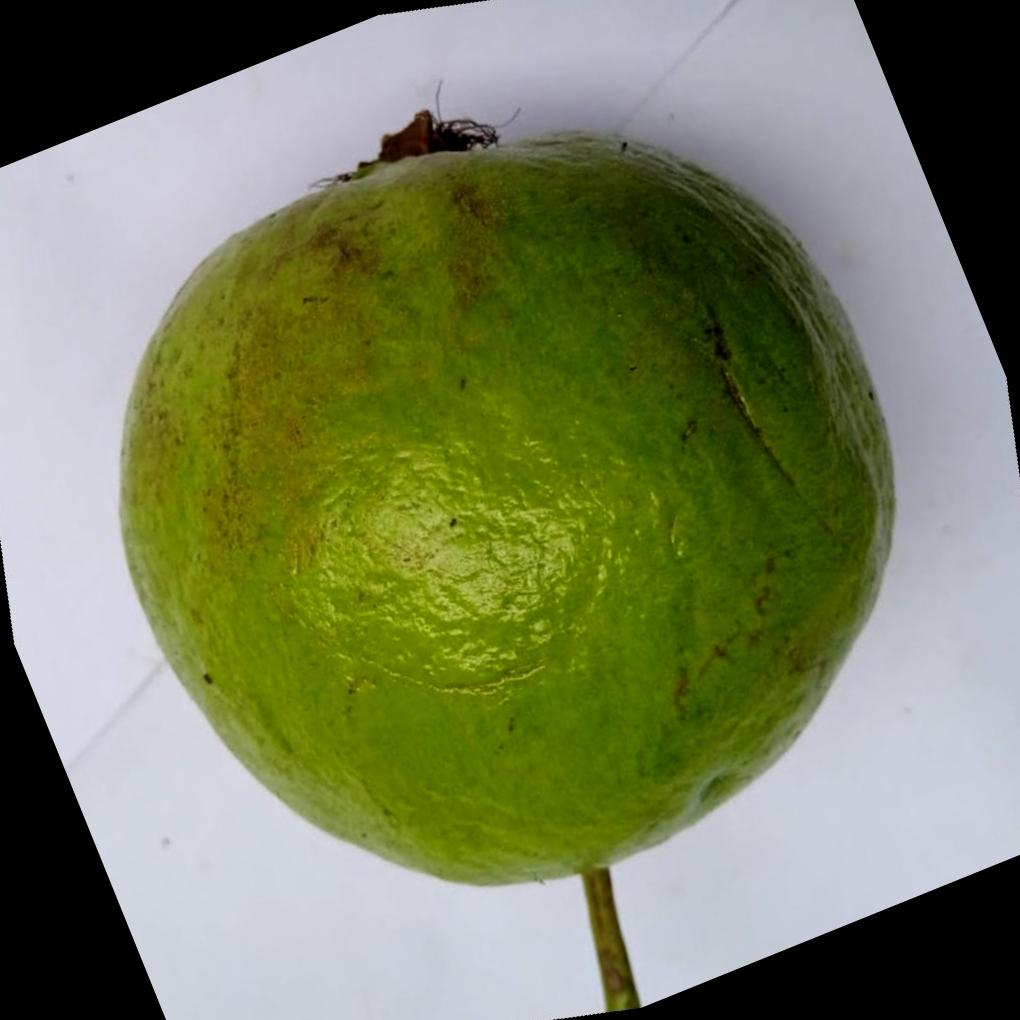FreshGuava: (118, 118, 900, 887)
